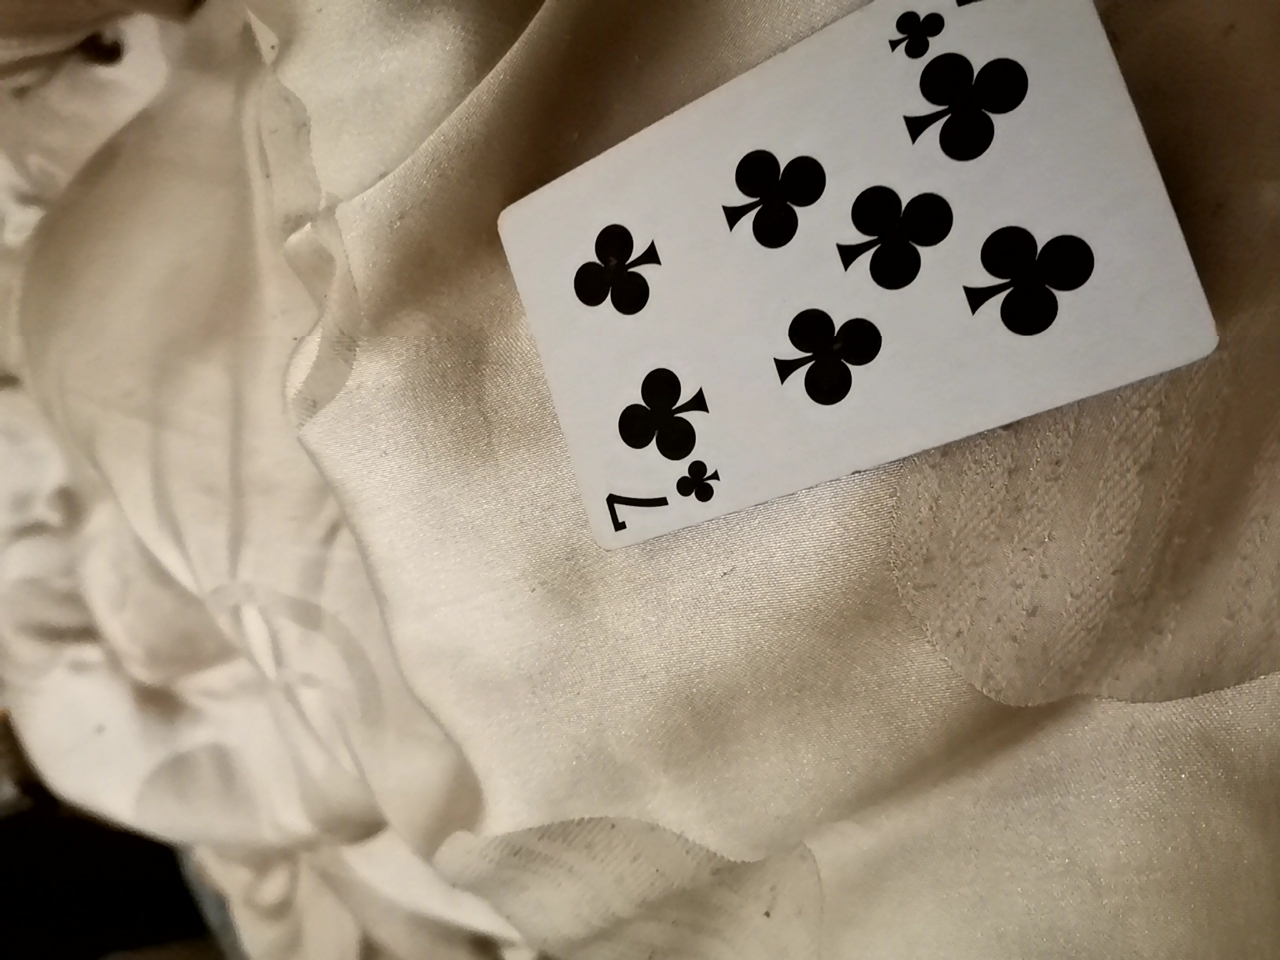mh 7: (487, 4, 1222, 567)
